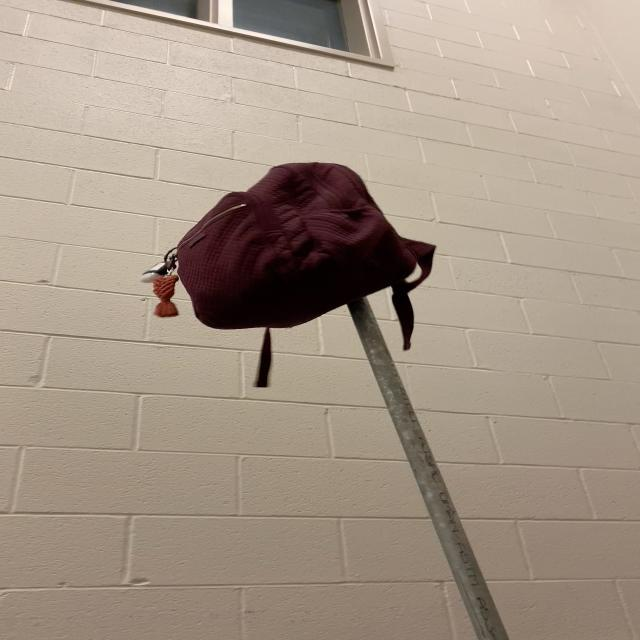Backpacks: (162, 160, 427, 331)
